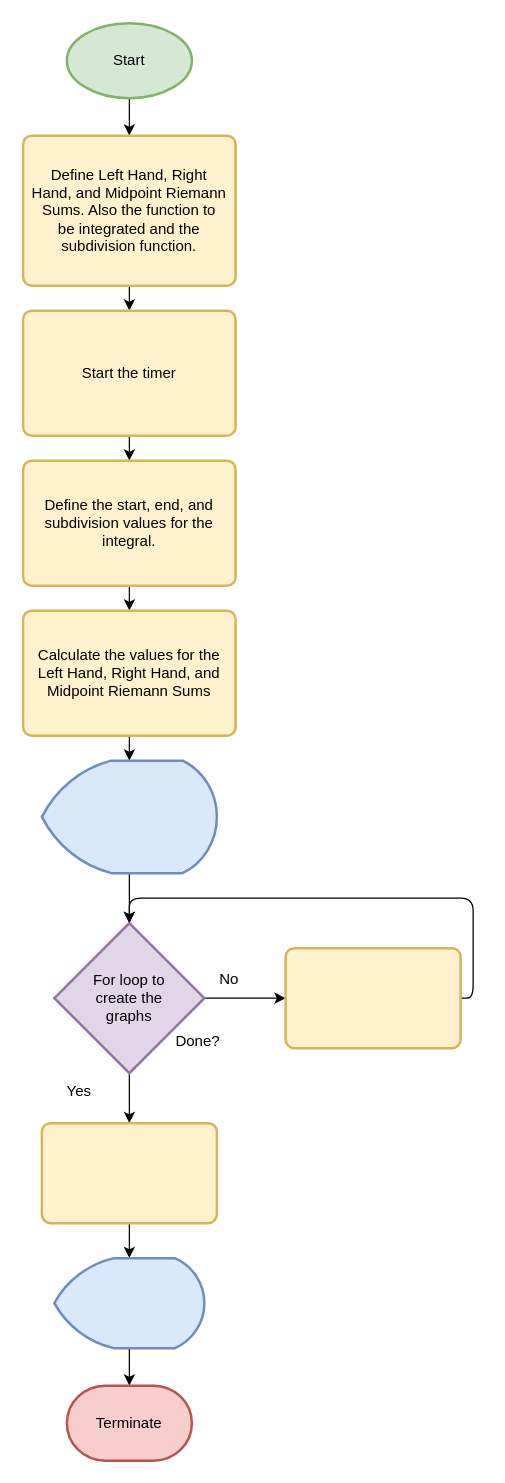
Some shapes in this 505 by 1483 pixel diagram are drawn without their labels. Here are the shapes that lost their labels. From the top down, the centre of each, then its label:
point 129,816: Print the results
point 372,997: Create Graphs and Rectangles
point 129,1172: End Time
point 128,1302: Display Graphs
